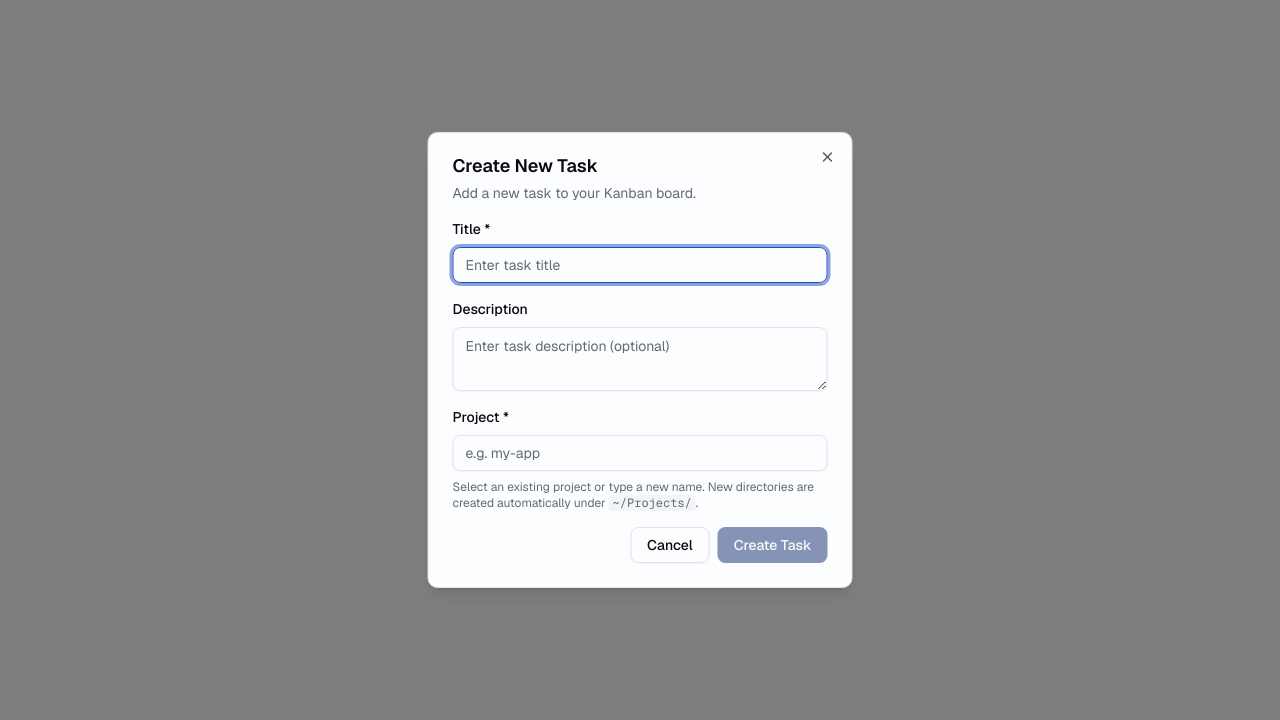
Test: CreateTaskDialog › enables submit button when title and project are filled
The width and height of the screenshot is (1280, 720).
Type "My task" into the field with placeholder "Enter task title".
click(640, 265); type("My task")  # box [452,247,828,283]
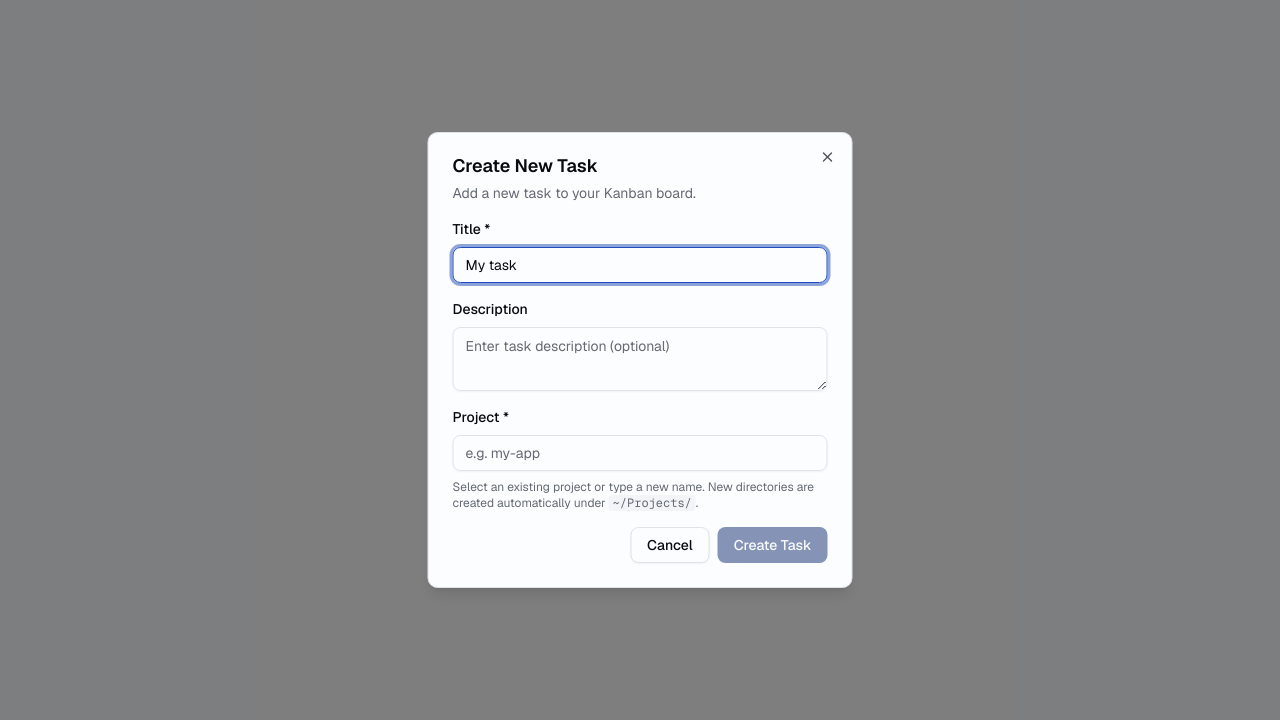
Type "my-app" into the field with placeholder "e.g. my-app".
click(640, 453); type("my-app")  # box [452,435,828,471]
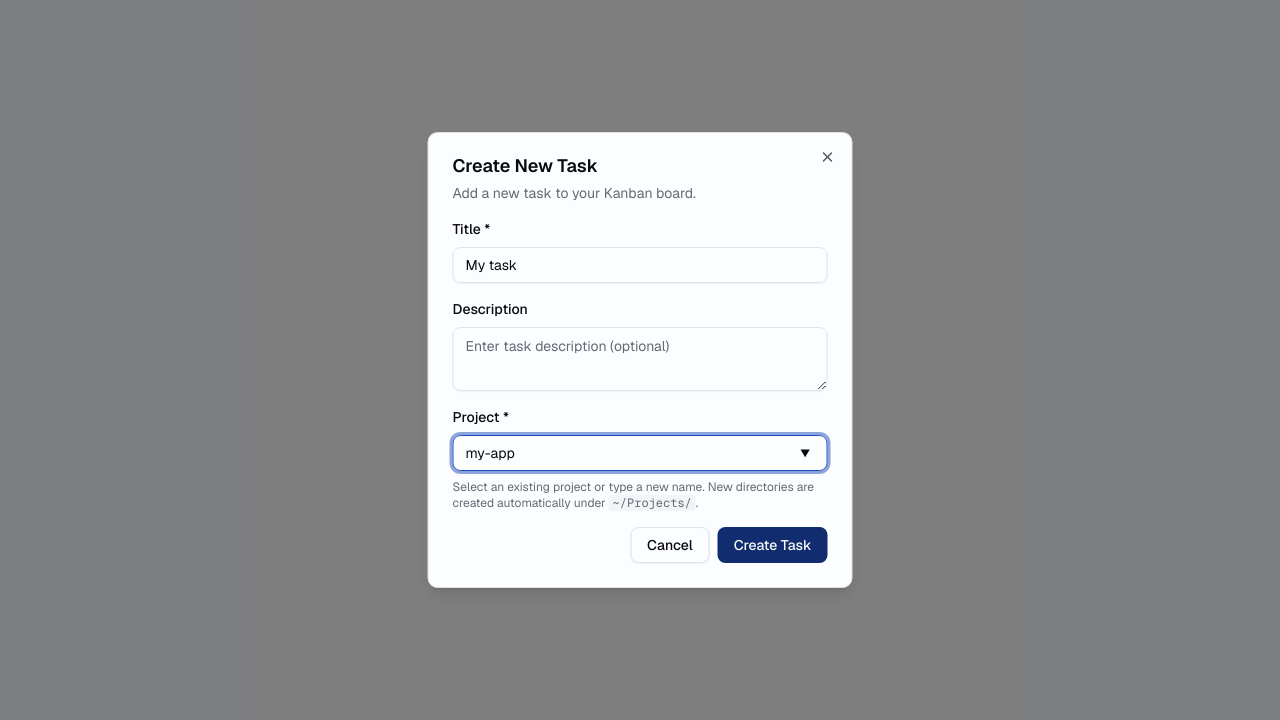
Expected: the button "Create Task" is enabled, [718,527,828,563]
